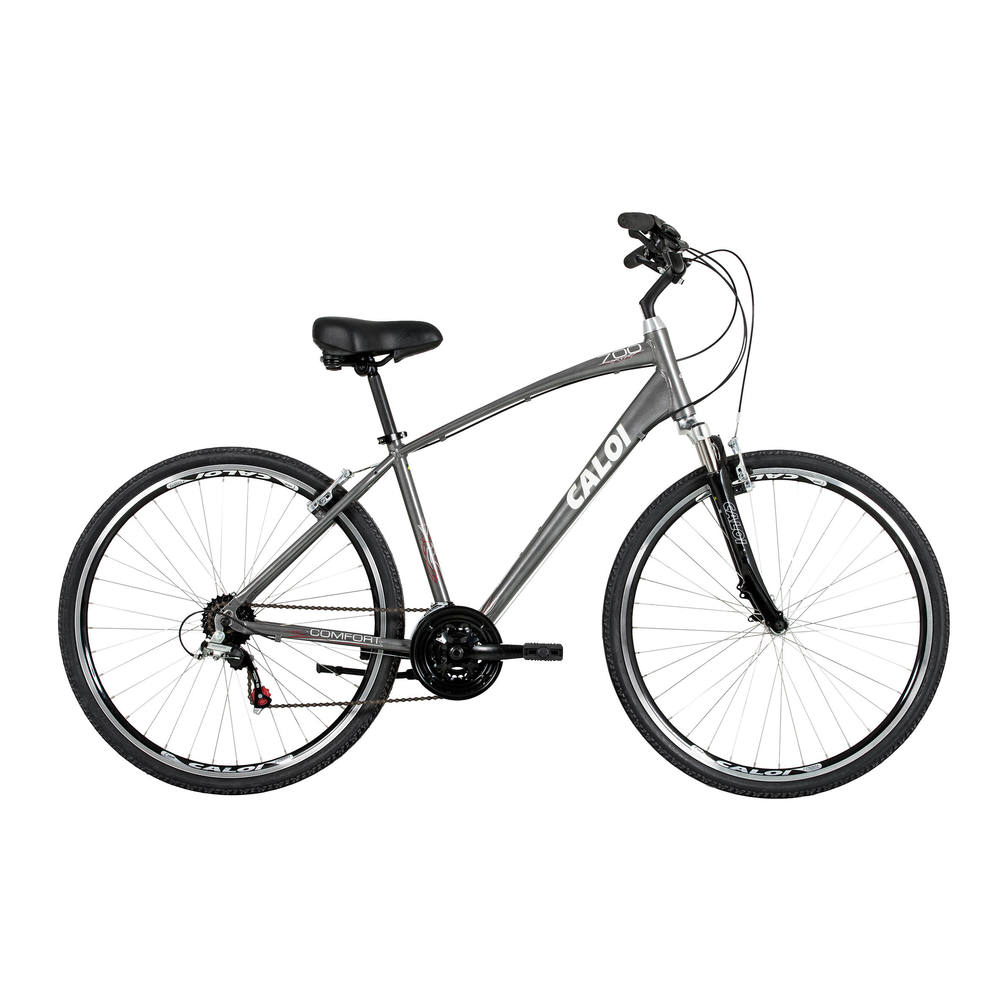UrbanBike: (49, 218, 935, 801)
